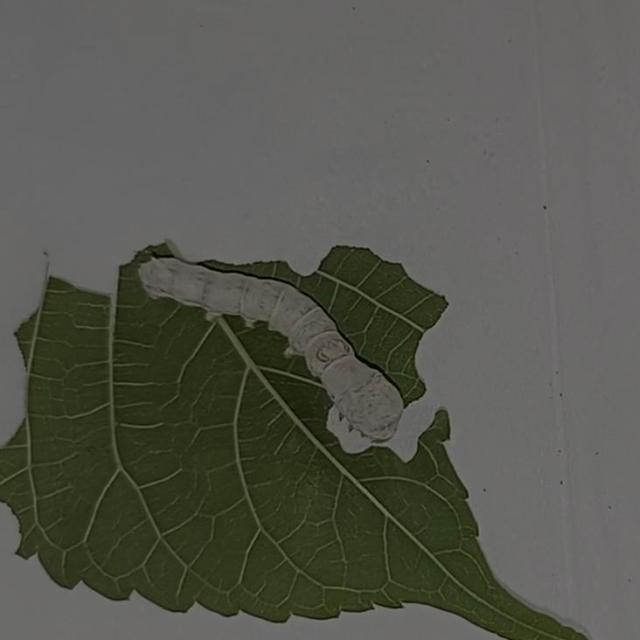Healthy: (90, 213, 422, 481)
